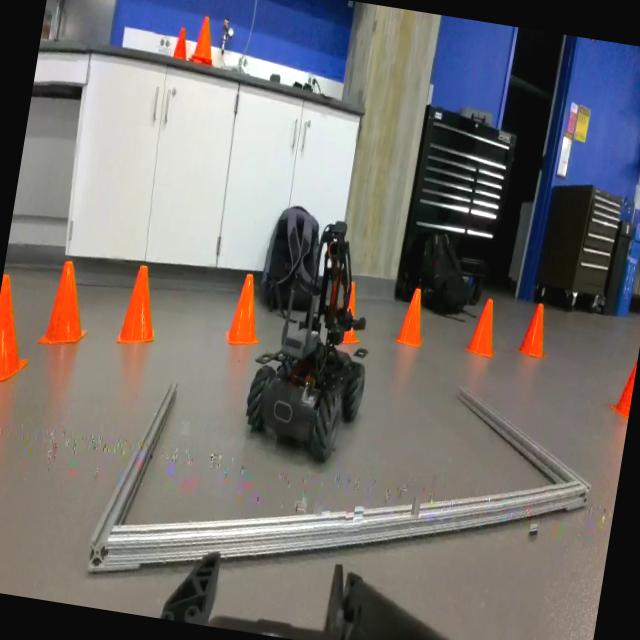cone: (36, 250, 99, 354), (0, 261, 41, 390), (114, 260, 168, 350), (224, 268, 266, 352), (463, 292, 508, 364), (518, 297, 556, 363), (396, 283, 433, 349)
metal barrier: (78, 326, 609, 640)
robot: (226, 203, 398, 472)
